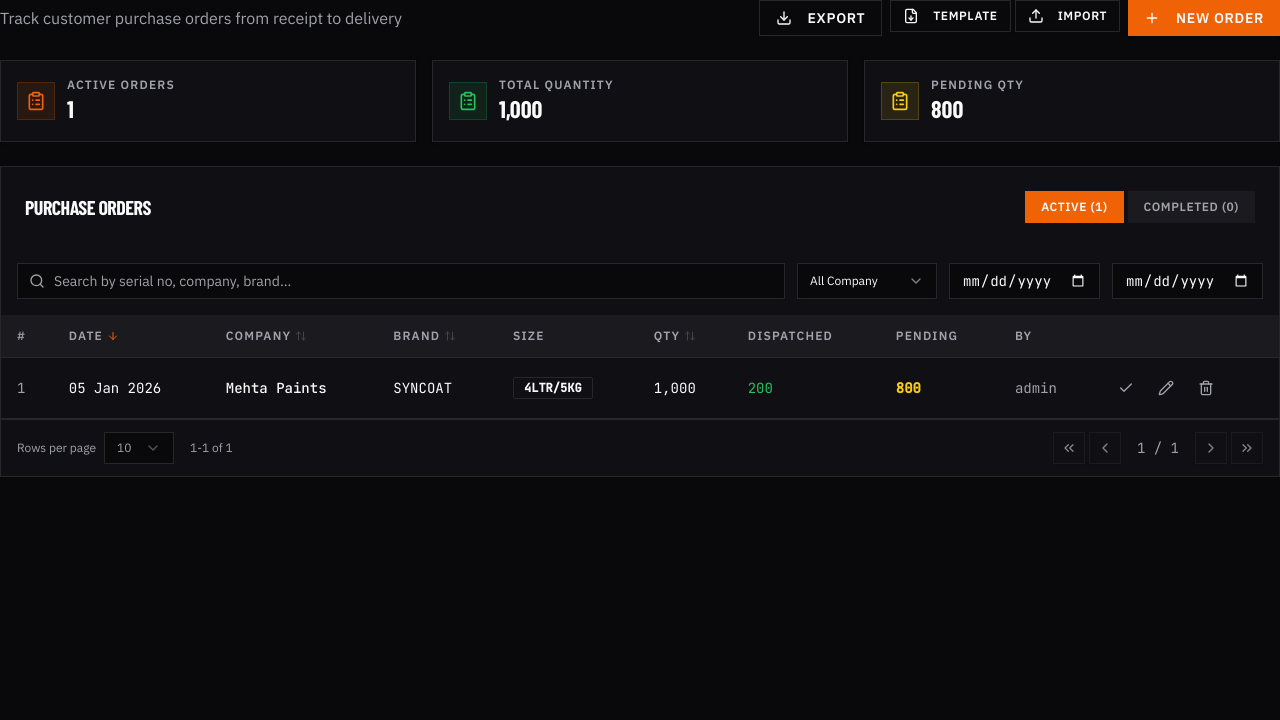
Test case: refuses to stage a PO line with quantity -5
Expected: the table with test id "po-table" is shown, left=1, top=315, right=1279, bottom=419
Click the button with test id "add-po-btn" at point(1204, 18), box left=1128, top=0, right=1279, bottom=36
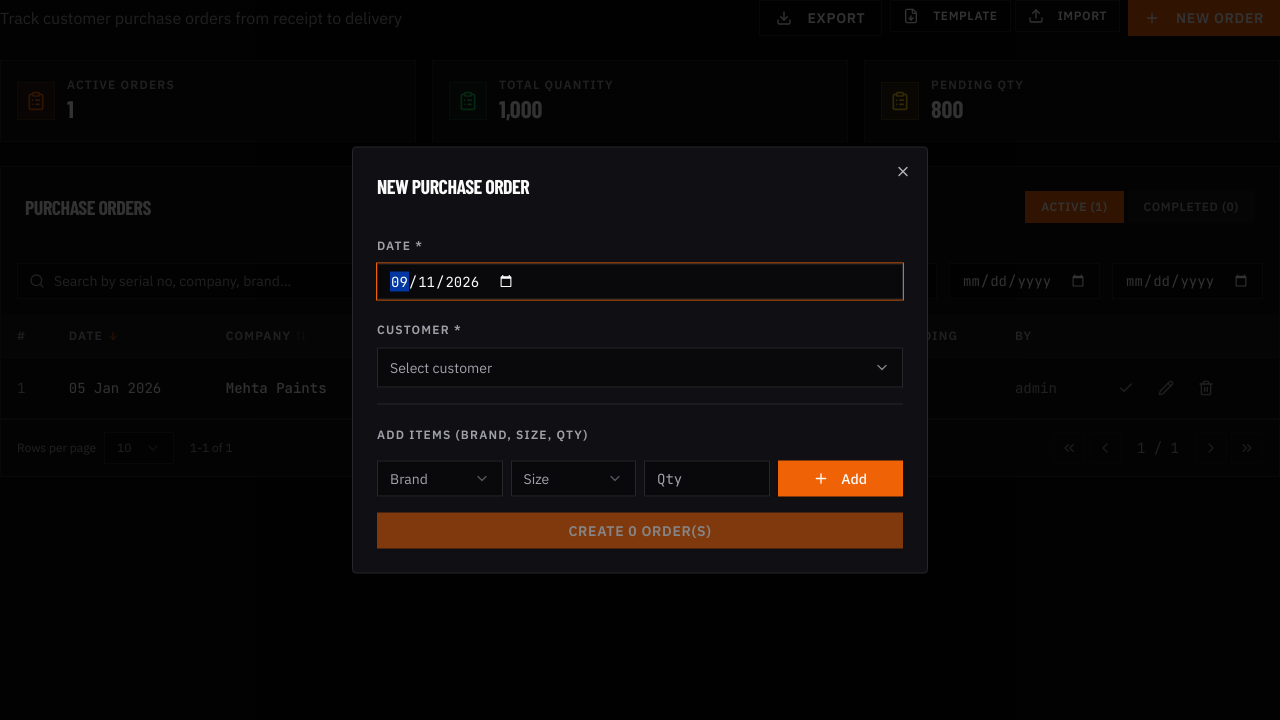
Type "-5" into the number field with test id "po-quantity" at point(707, 478), box left=644, top=460, right=770, bottom=496
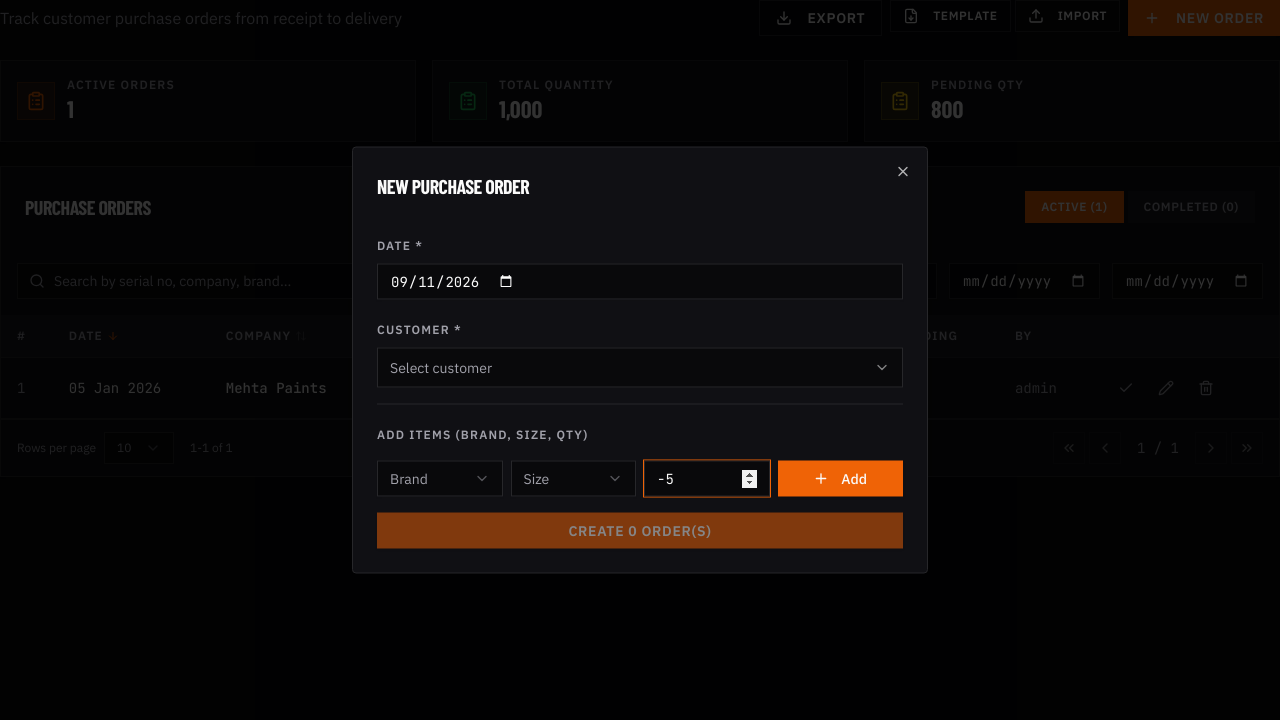
Click the button with test id "add-po-item-btn" at point(840, 478), box left=778, top=460, right=903, bottom=496
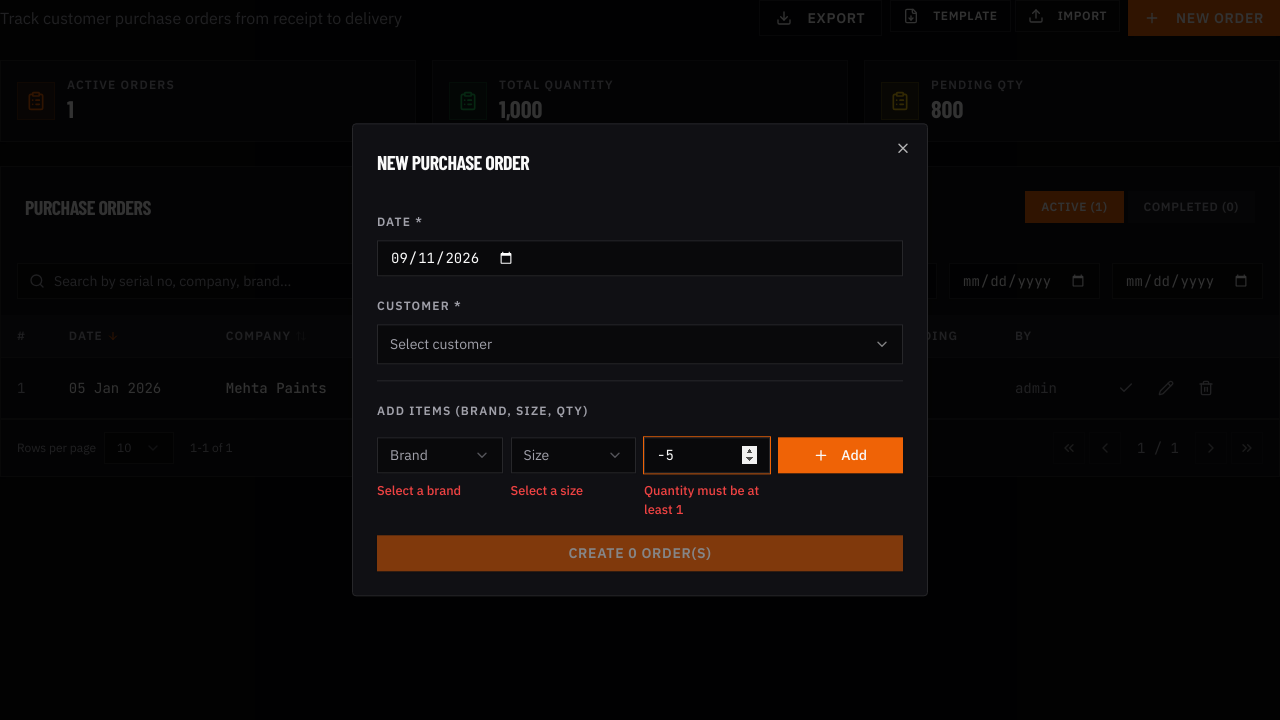
Now the text "Quantity must be at least 1" is shown, box left=644, top=481, right=770, bottom=520
